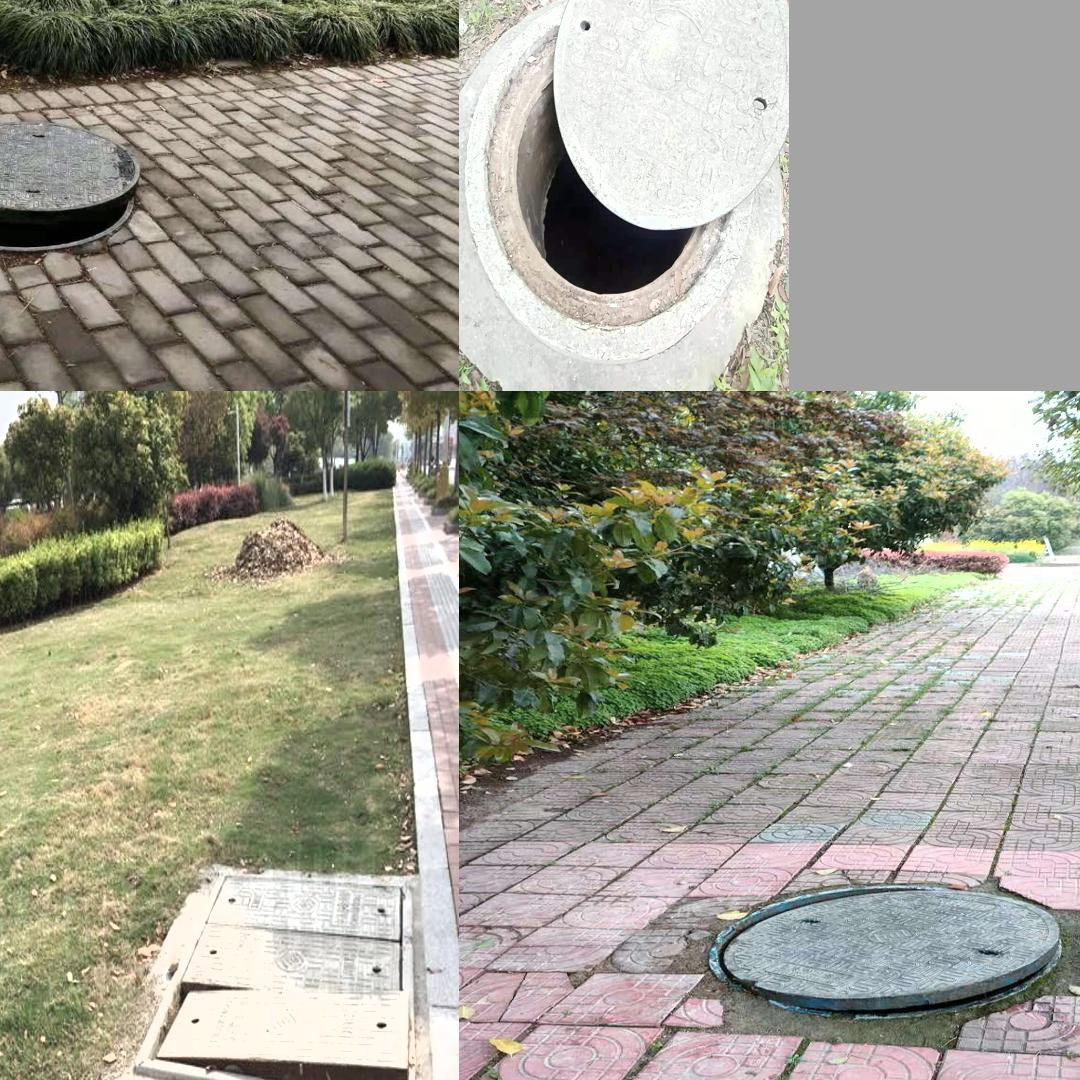uncovered: (459, 0, 788, 362), (638, 877, 1080, 1026), (130, 866, 420, 1080), (0, 102, 162, 274)
